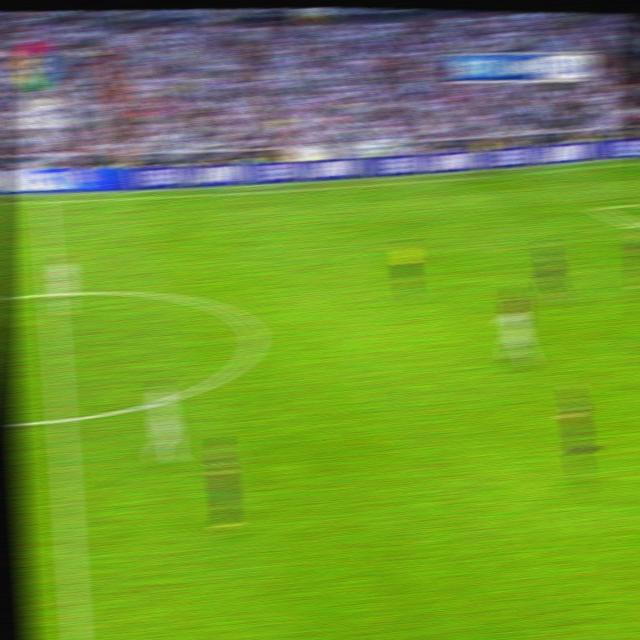bigarea_top_inner: (589, 200, 606, 216)
halfcircle_bottom: (48, 401, 73, 436)
halfcircle_top: (41, 279, 62, 304)
midline_top_intersection: (34, 193, 53, 210)
